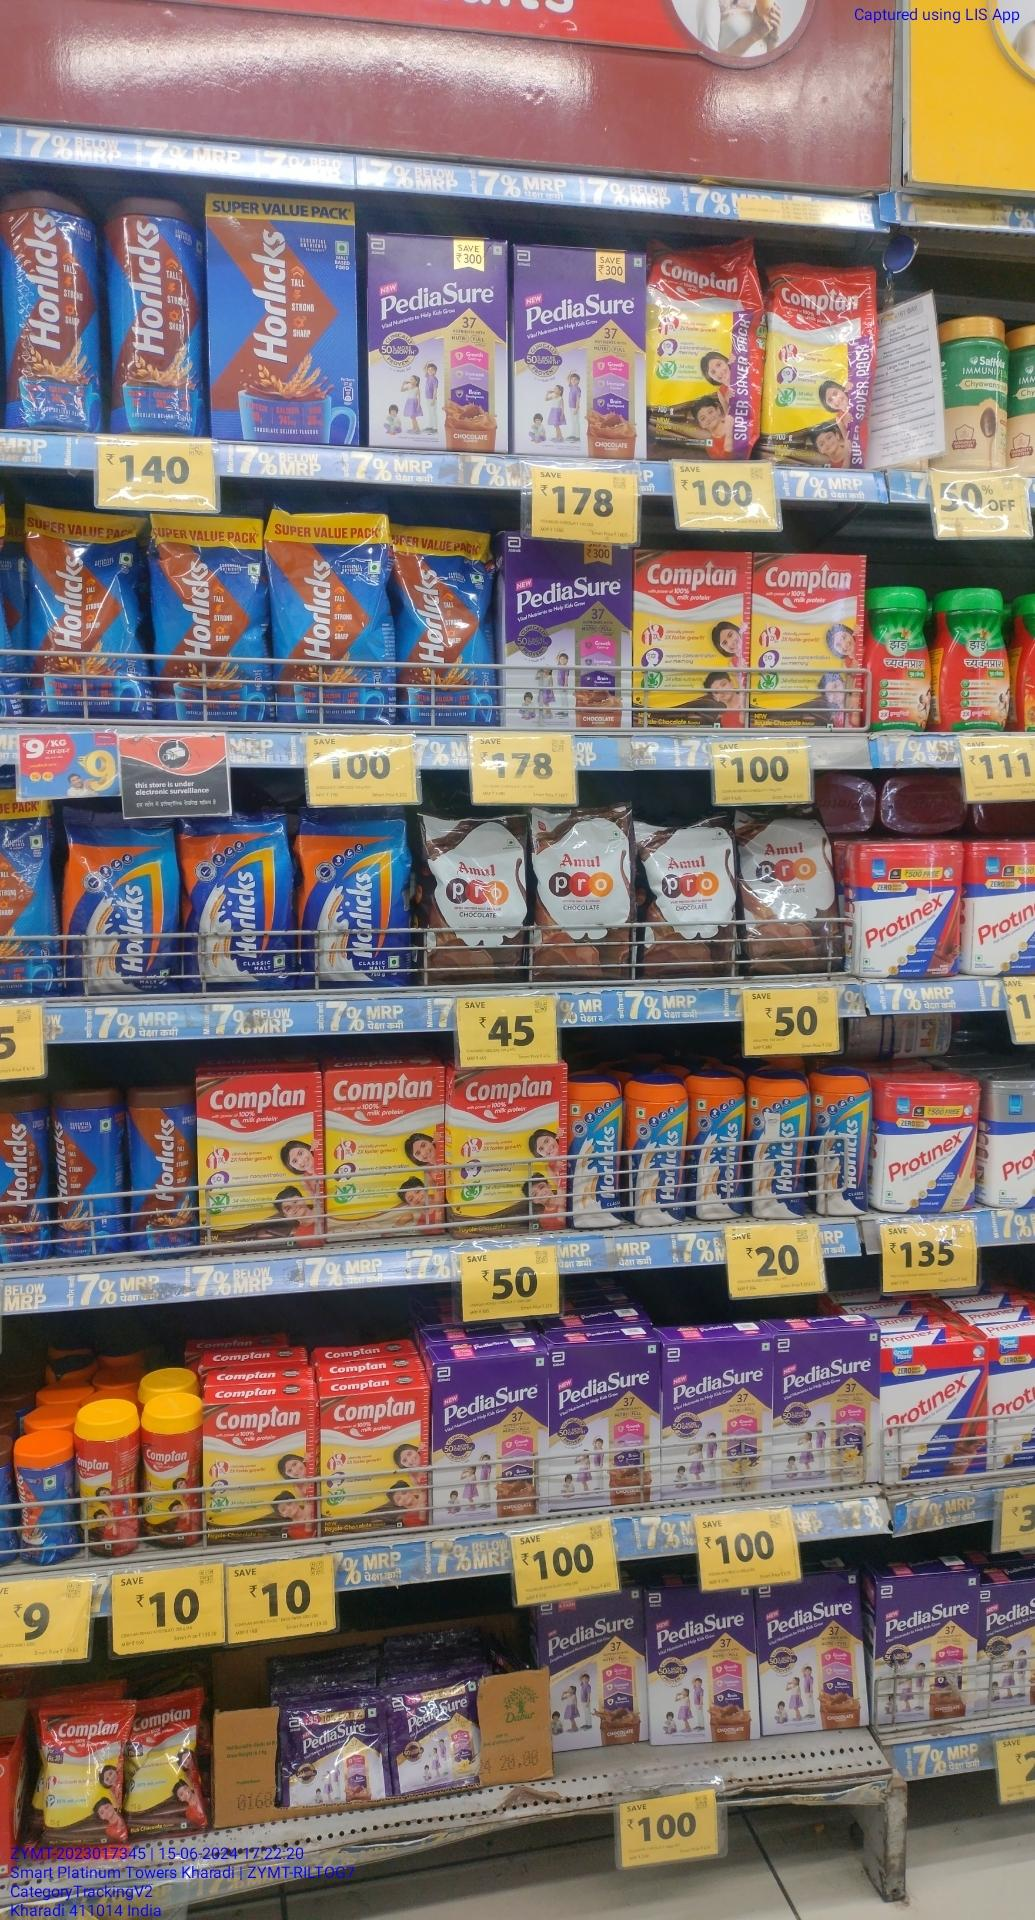COMPLAN_CHOCOLATE_200_GMS_JAR: (138, 1407, 187, 1554), (74, 1418, 126, 1558)
COMPLAN_CHOCOLATE_200_GMS_PACK: (316, 1390, 426, 1537), (203, 1401, 312, 1543)
COMPLAN_RC_POUCH_700_GMS_12: (649, 242, 760, 460), (766, 264, 868, 469)
HORLICK_CHOCOLATE_1_KG_JAR: (1, 190, 101, 436), (110, 194, 204, 434)
HORLICK_CHOCOLATE_1_KG_PACK: (209, 191, 357, 446)
HORLICK_CHOCOLATE_500_G_JAR: (131, 1085, 196, 1260), (54, 1093, 117, 1263), (0, 1092, 45, 1273)
HORLICK_CHOCOLATE_750_G_POUCH: (23, 499, 149, 719), (273, 508, 393, 726), (154, 507, 264, 724), (398, 508, 493, 729)
HORLICK_CLASSIC_MALT_200_G_JAR: (17, 1441, 69, 1570)
HORLICK_CLASSIC_MALT_500_G_JAR: (566, 1077, 627, 1229), (628, 1077, 684, 1229), (749, 1075, 807, 1223), (813, 1070, 869, 1219), (691, 1069, 743, 1222)
HORLICK_CLASSIC_MALT_750_G_POUCH: (294, 808, 408, 992), (65, 814, 172, 992), (180, 810, 287, 987)
PEDIASURE_CHOCOLATE_500_G_PACK: (368, 229, 502, 450), (512, 248, 646, 456), (507, 534, 631, 734), (549, 1342, 659, 1515), (433, 1362, 540, 1522), (648, 1587, 752, 1740), (761, 1576, 863, 1729), (544, 1601, 644, 1749), (878, 1573, 976, 1723)
PEDIASURE_VANILLA_500_G_PACK: (668, 1340, 772, 1498), (776, 1335, 874, 1489)
PROTINEX_CHOCOLATE_400_G_JAR: (855, 843, 957, 981), (966, 840, 1035, 977)
PROTINEX_VANILLA_400_G_JAR: (879, 1075, 980, 1217)
